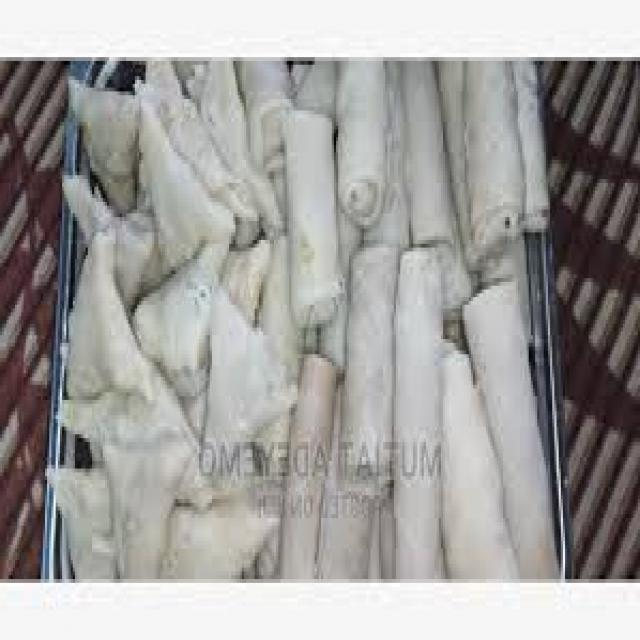Samosa: (58, 57, 259, 579)
Spring Rolls: (291, 57, 546, 575)
